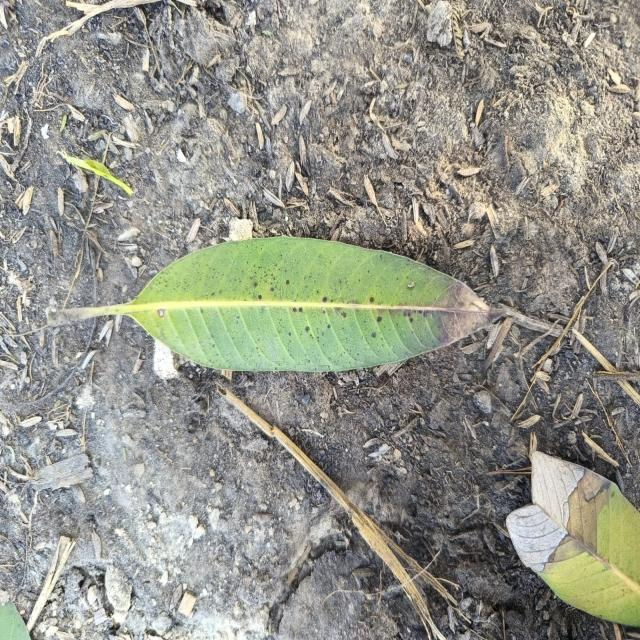Powdery Mildew: (155, 307, 169, 318), (407, 281, 415, 288)
black die: (341, 311, 347, 317), (368, 297, 374, 303), (377, 316, 382, 322), (305, 326, 310, 332), (322, 296, 327, 302), (326, 324, 331, 329), (372, 332, 376, 338), (258, 294, 262, 300), (288, 332, 292, 337), (293, 308, 297, 312), (254, 282, 257, 287), (410, 317, 413, 322), (299, 308, 302, 312), (286, 280, 289, 284), (271, 288, 274, 291)
